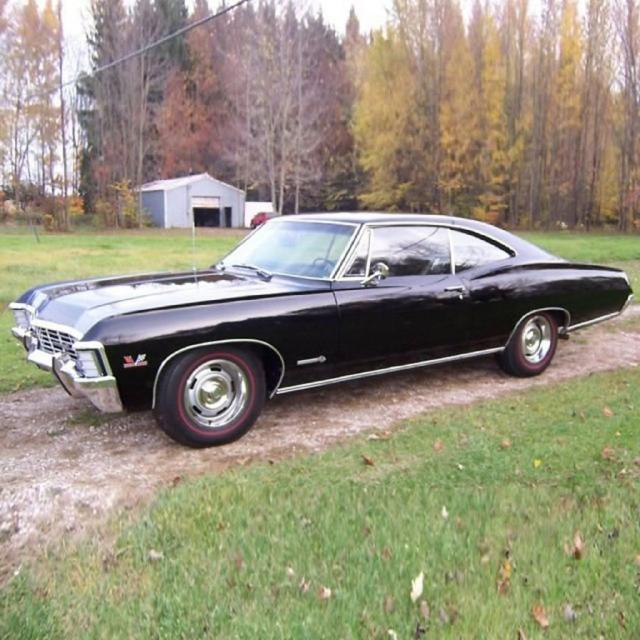car: (10, 206, 634, 450)
